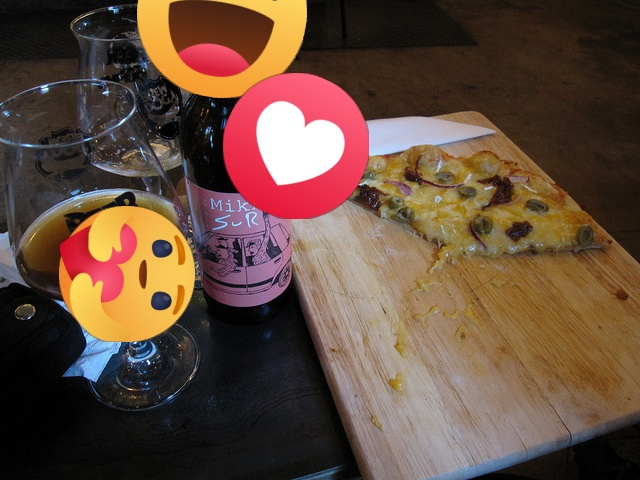care: (59, 206, 195, 342)
haha: (137, 0, 307, 98)
love: (223, 73, 369, 219)
